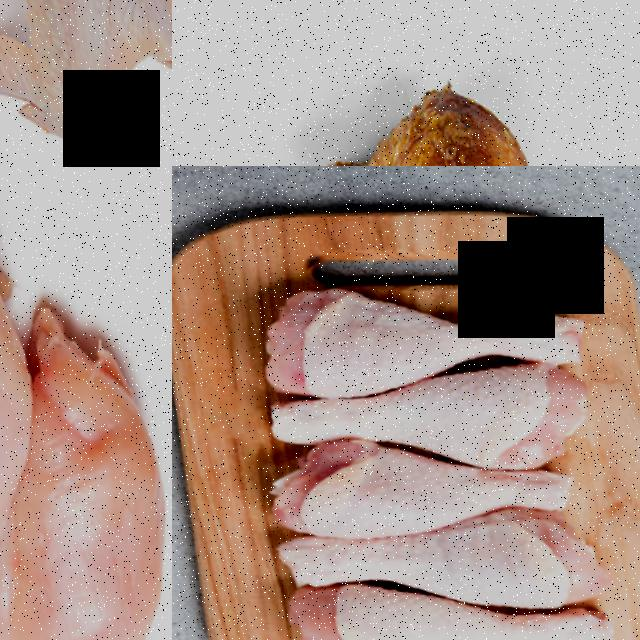chicken breast: (0, 174, 172, 640)
chicken thigh: (243, 276, 586, 395), (172, 68, 575, 166), (240, 379, 602, 467), (263, 525, 605, 616), (239, 458, 589, 543), (280, 597, 631, 640)
chicken wing: (0, 0, 172, 143)
